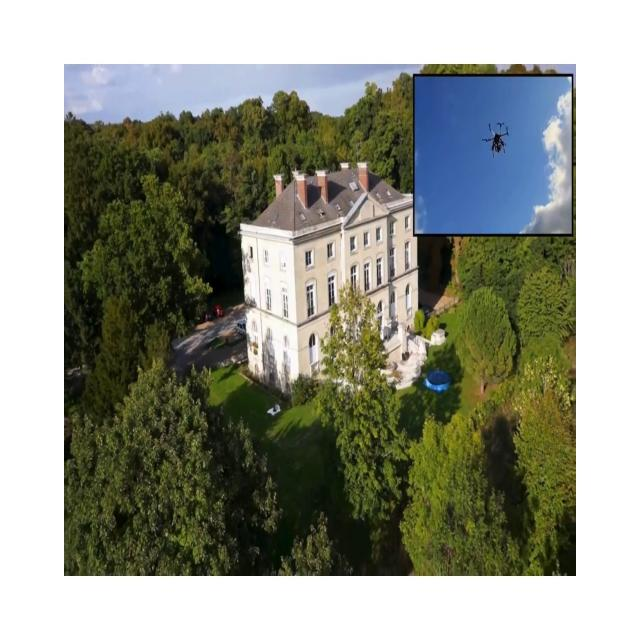drone: (482, 121, 508, 157)
